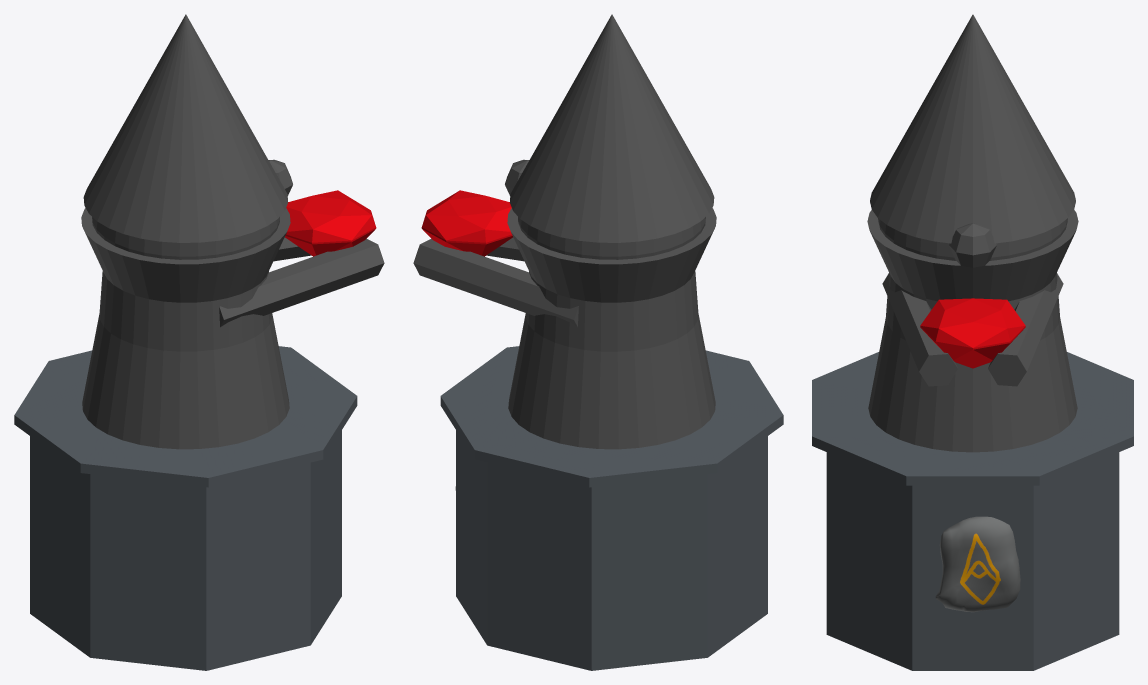
The model's file is ColorStatue_Mini.fbx.
3 renders of one model, left to right at view 1: azimuth 30°, elevation 25°; view 2: azimuth 150°, elevation 25°; view 3: azimuth 270°, elevation 25°, orthographic.
Parts seen in each view (by area): view 1: Base, Body, Hat, Arm Right, Diamond, Head; view 2: Base, Body, Hat, Arm Left, Diamond, Head; view 3: Base, Hat, Body, Color Rune, Diamond, Arm Left, Arm Right, Head, Nose.
Boxes of the visible parts, x1=… form: Base: x1=14, y1=346, x2=357, y2=670; Body: x1=81, y1=208, x2=290, y2=449; Hat: x1=83, y1=14, x2=288, y2=242; Arm Right: x1=219, y1=238, x2=384, y2=327; Diamond: x1=285, y1=190, x2=376, y2=256; Head: x1=92, y1=217, x2=279, y2=259; Base: x1=440, y1=346, x2=783, y2=670; Body: x1=507, y1=208, x2=716, y2=449; Hat: x1=509, y1=14, x2=714, y2=242; Arm Left: x1=413, y1=238, x2=578, y2=327; Diamond: x1=421, y1=190, x2=512, y2=256; Head: x1=518, y1=217, x2=705, y2=259; Base: x1=812, y1=352, x2=1133, y2=670; Hat: x1=870, y1=14, x2=1075, y2=243; Body: x1=867, y1=210, x2=1078, y2=452; Color Rune: x1=935, y1=516, x2=1020, y2=612; Diamond: x1=920, y1=298, x2=1025, y2=368; Arm Left: x1=988, y1=273, x2=1063, y2=386; Arm Right: x1=882, y1=273, x2=957, y2=386; Head: x1=878, y1=218, x2=1067, y2=260; Nose: x1=949, y1=223, x2=996, y2=267.
Size of the model in its own units: 285 by 498 by 244.
